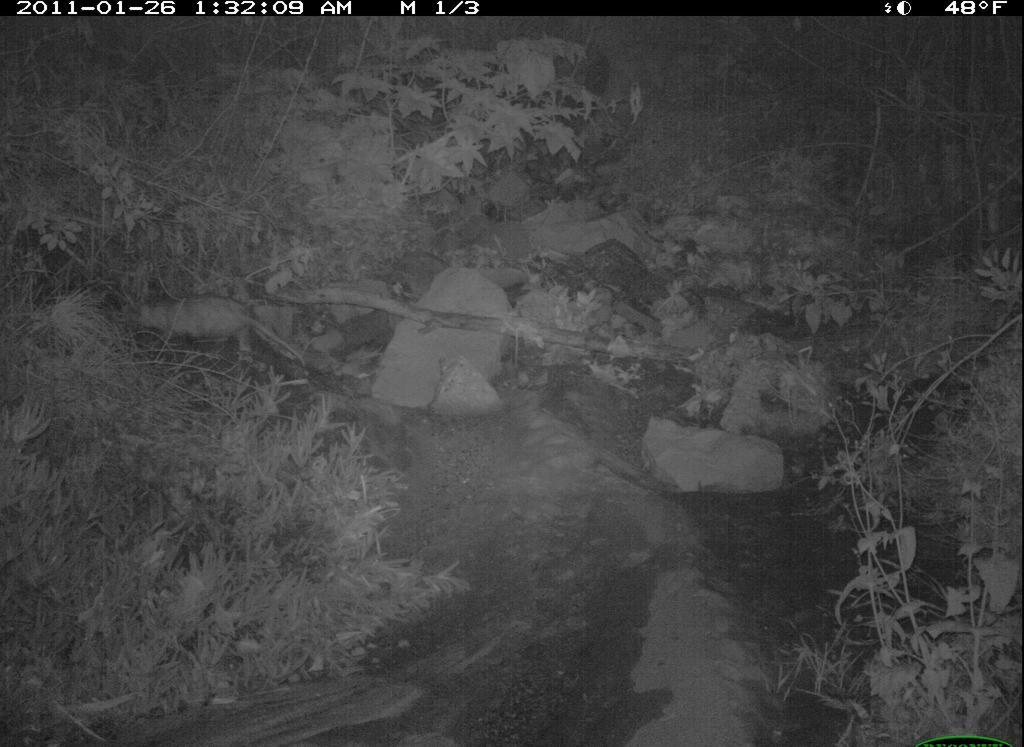opossum: (121, 280, 327, 387)
